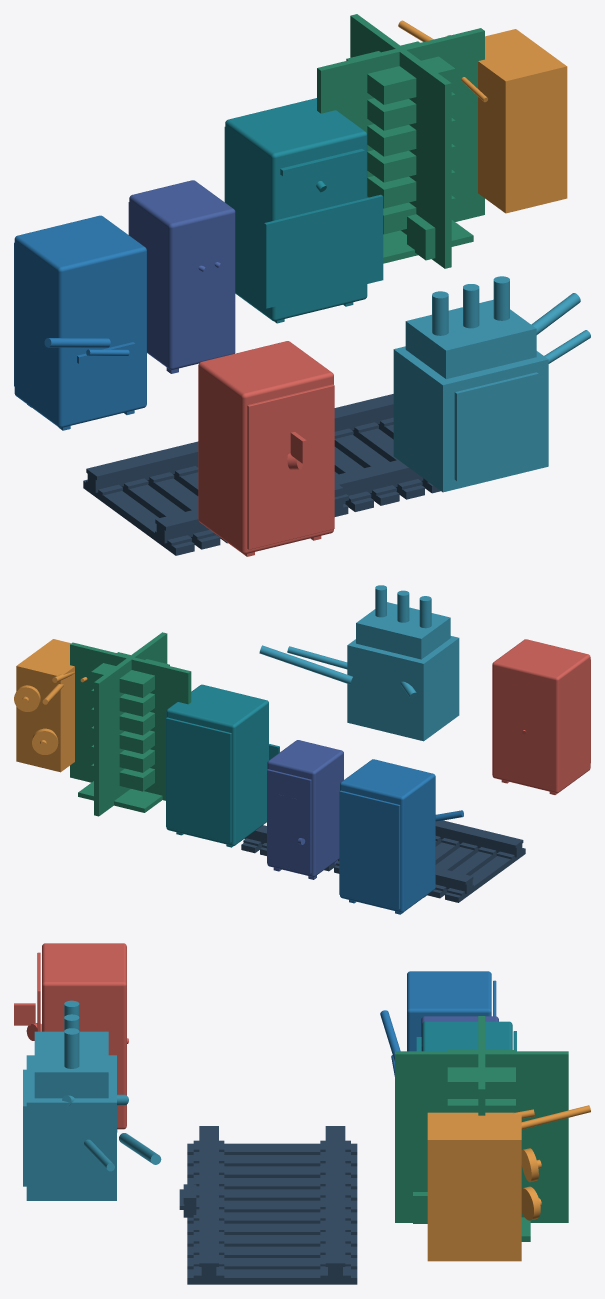
File: regentransit_exploded.glb
3 views of the same model, one above another, from view 1: azimuth 30°, elevation 25°; view 2: azimuth 150°, elevation 25°; view 3: azimuth 270°, elevation 25° (orthographic). The views are drawn at different scales.
Visible parts, largest first — view 1: regentransit.wayside_converter, regentransit.grid_wayside_interface, regentransit.storage_rack, regentransit.protection_switchgear, regentransit.traction_inverter, regentransit.rail_interface, regentransit.braking_control, regentransit.thermal_management; view 2: regentransit.storage_rack, regentransit.grid_wayside_interface, regentransit.wayside_converter, regentransit.protection_switchgear, regentransit.traction_inverter, regentransit.braking_control, regentransit.thermal_management, regentransit.rail_interface; view 3: regentransit.rail_interface, regentransit.storage_rack, regentransit.grid_wayside_interface, regentransit.thermal_management, regentransit.protection_switchgear, regentransit.traction_inverter, regentransit.wayside_converter, regentransit.braking_control.
Part boxes in pixels (left/top/right/bottom): regentransit.wayside_converter: left=224, top=98, right=383, bottom=323; regentransit.grid_wayside_interface: left=393, top=276, right=590, bottom=492; regentransit.storage_rack: left=317, top=14, right=484, bottom=268; regentransit.protection_switchgear: left=198, top=341, right=334, bottom=556; regentransit.traction_inverter: left=14, top=215, right=146, bottom=430; regentransit.rail_interface: left=83, top=394, right=440, bottom=555; regentransit.braking_control: left=128, top=180, right=235, bottom=373; regentransit.thermal_management: left=398, top=20, right=567, bottom=213; regentransit.storage_rack: left=70, top=632, right=191, bottom=816; regentransit.grid_wayside_interface: left=259, top=585, right=459, bottom=741; regentransit.wayside_converter: left=166, top=684, right=279, bottom=847; regentransit.protection_switchgear: left=492, top=639, right=590, bottom=794; regentransit.traction_inverter: left=339, top=759, right=463, bottom=914; regentransit.braking_control: left=267, top=740, right=343, bottom=879; regentransit.thermal_management: left=14, top=639, right=87, bottom=772; regentransit.rail_interface: left=241, top=820, right=525, bottom=902; regentransit.rail_interface: left=179, top=1126, right=357, bottom=1284; regentransit.storage_rack: left=395, top=1016, right=568, bottom=1241; regentransit.grid_wayside_interface: left=23, top=1000, right=161, bottom=1200; regentransit.thermal_management: left=427, top=1105, right=590, bottom=1261; regentransit.protection_switchgear: left=14, top=943, right=128, bottom=1132; regentransit.traction_inverter: left=380, top=971, right=496, bottom=1076; regentransit.wayside_converter: left=416, top=1021, right=516, bottom=1051; regentransit.braking_control: left=421, top=1016, right=498, bottom=1050.
Bounding box in the file's own units: 3189 × 1650 × 3194.
